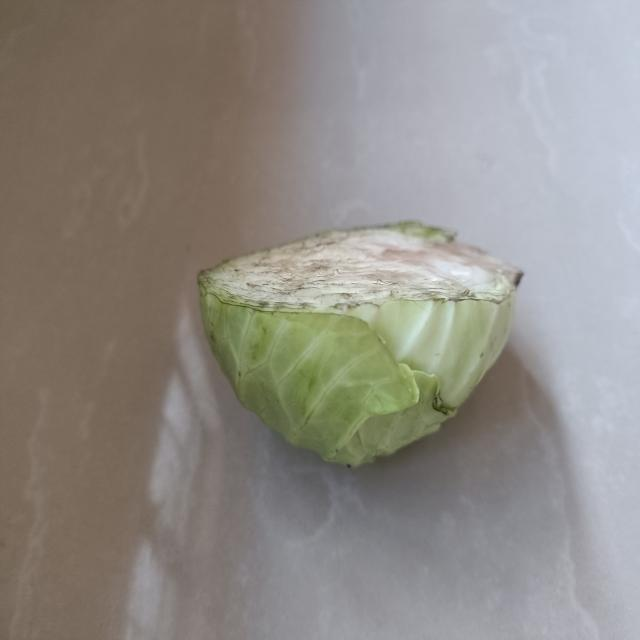cabbage: (192, 220, 523, 480)
